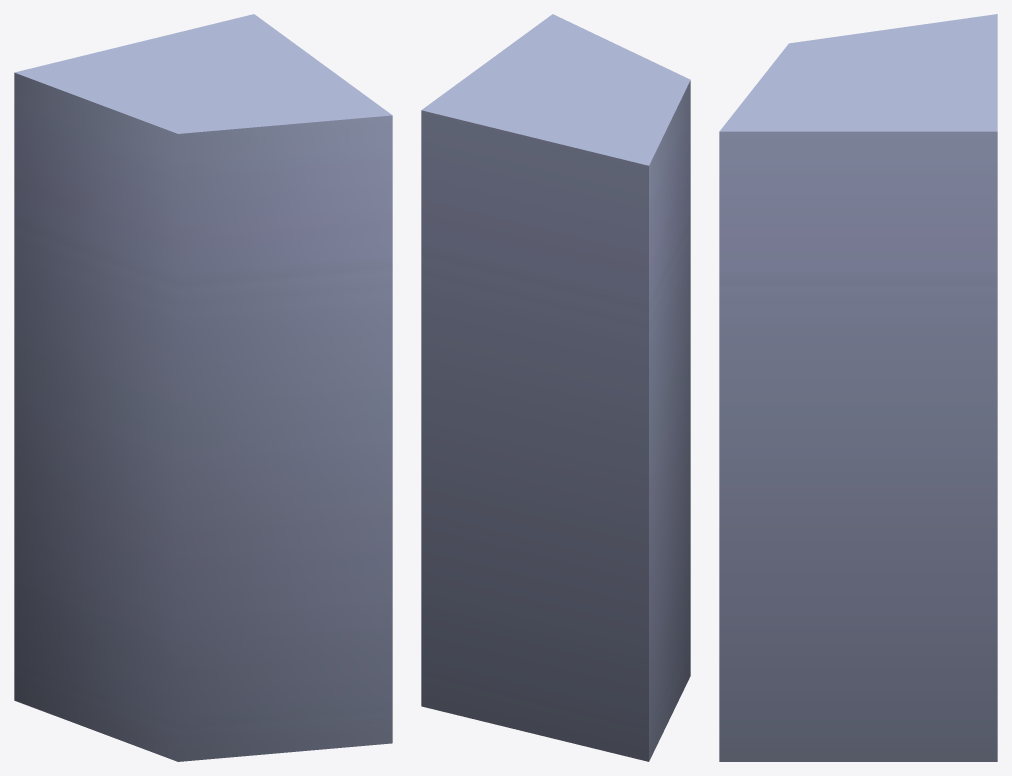
File: kenney-prototype-column-rounded-low.glb
The picture shows the model from 3 angles, left to right: view 1: azimuth 30°, elevation 25°; view 2: azimuth 150°, elevation 25°; view 3: azimuth 270°, elevation 25°; orthographic projection. The views are drawn at different scales.
Visible parts, largest first — view 1: column-rounded-low; view 2: column-rounded-low; view 3: column-rounded-low.
Boxes of the visible parts, x1,y1,x2,y2 form: column-rounded-low: [14, 14, 392, 761]; column-rounded-low: [421, 14, 690, 761]; column-rounded-low: [719, 14, 997, 761].
Bounding box in the file's own units: 0.2 × 0.5 × 0.2.
Materials: 1 (1 with a texture image).
